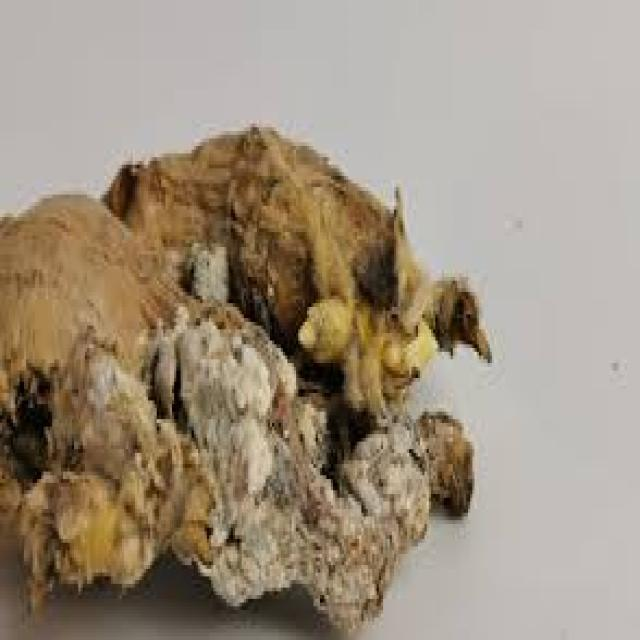ginger: (5, 139, 486, 620)
